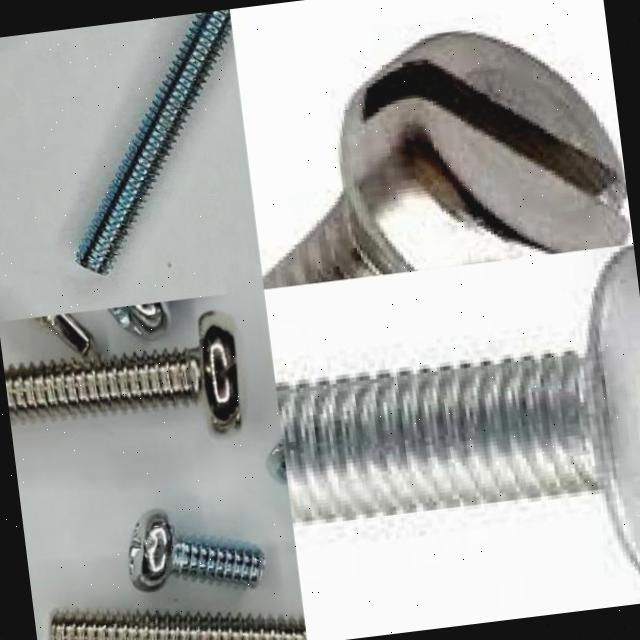Screw: (275, 246, 640, 570), (261, 28, 627, 289), (75, 9, 232, 275), (4, 312, 241, 434), (127, 511, 264, 590), (47, 613, 307, 640), (107, 301, 168, 334)
